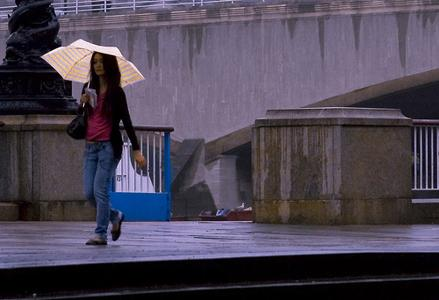person: (81, 51, 146, 248)
